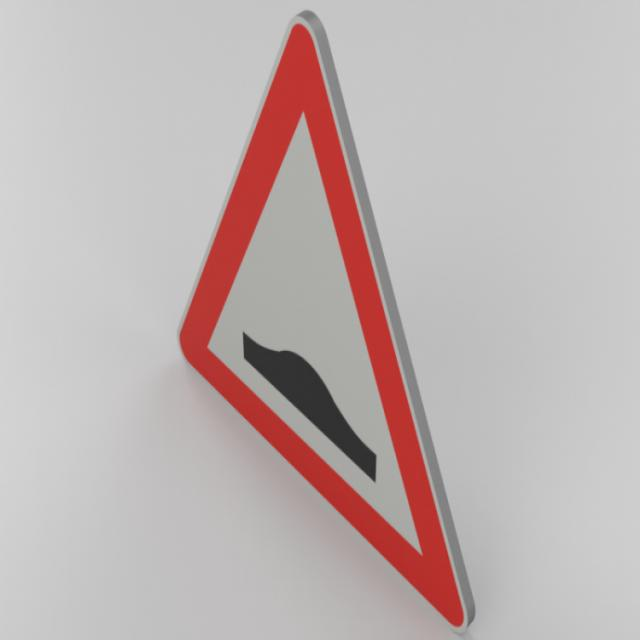hump: (174, 6, 476, 639)
